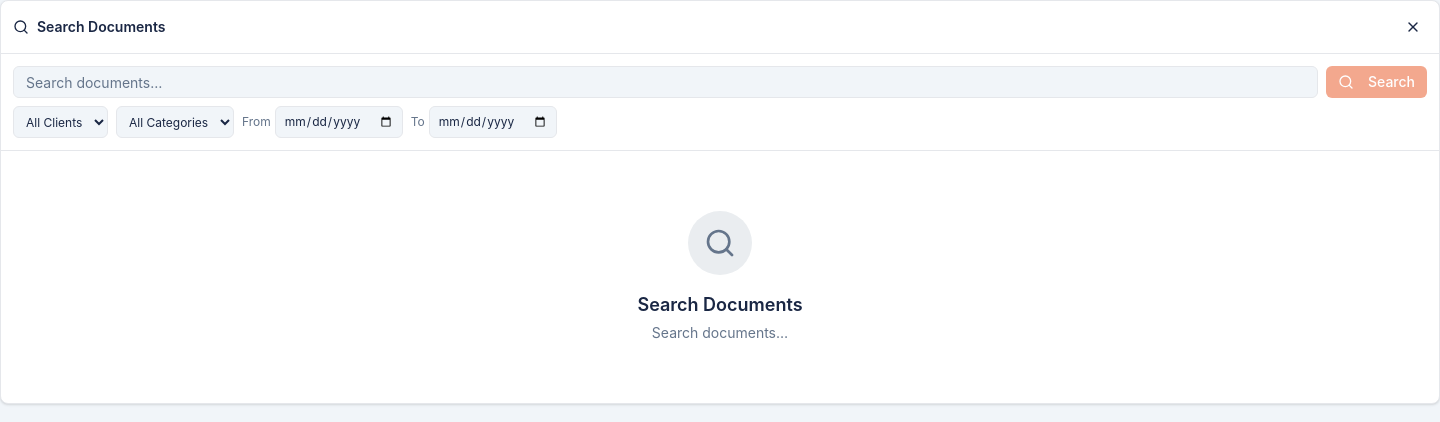
Test: DocumentSearchPanel › enables search button when query has text
Type "tax return" into the field with placeholder "Search documents…". click: (666, 82)
box: top-left (13, 66), bottom-right (1318, 98)
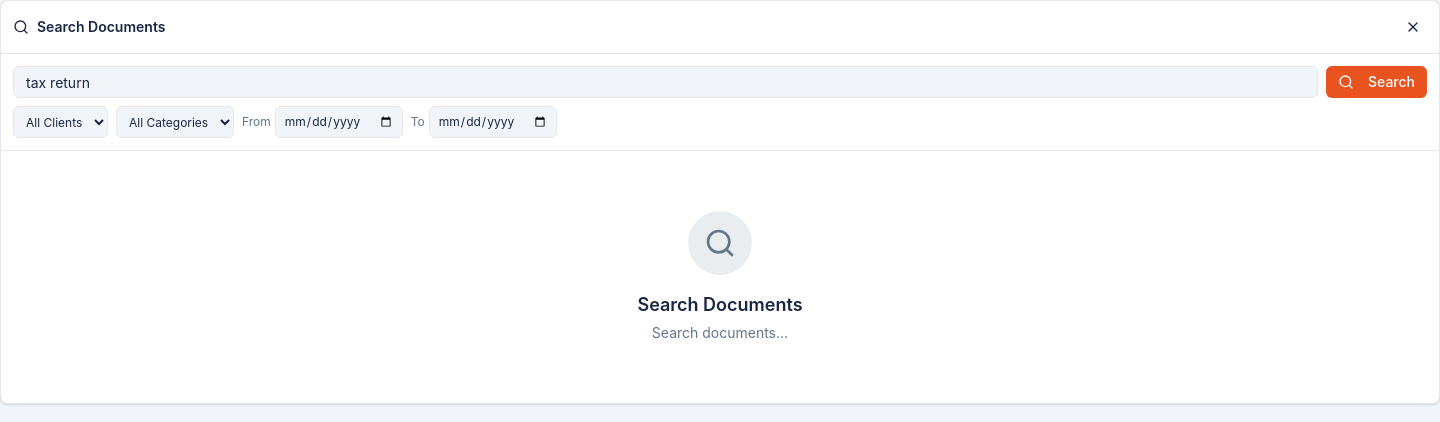
Result: the button "Search" is enabled at top-left (1326, 66), bottom-right (1427, 98)
